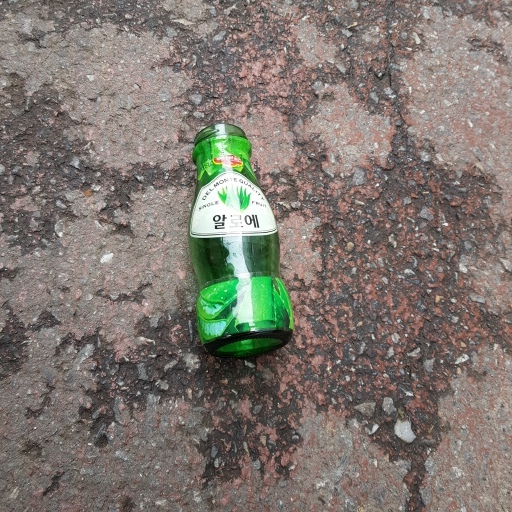Glass_4: (184, 119, 297, 359)
